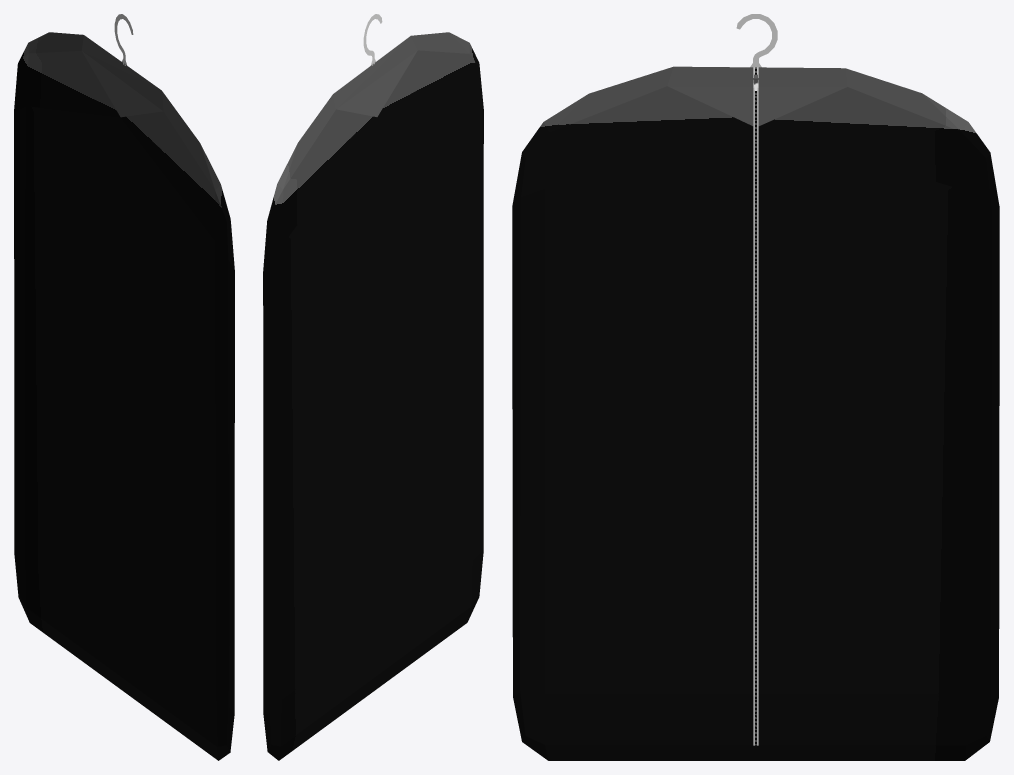
Rendered from Prefab_Array_SuitBag.glb.
3 views of the same model, side by side, from view 1: azimuth 30°, elevation 25°; view 2: azimuth 150°, elevation 25°; view 3: azimuth 270°, elevation 25° (orthographic). The views are drawn at different scales.
Parts seen in each view (by area): view 1: Plane.002; view 2: Plane.002; view 3: Plane.002.
Boxes of the visible parts, x1,y1,x2,y2 form: Plane.002: (14,14,234,760); Plane.002: (263,14,483,760); Plane.002: (512,14,999,760).
Size of the model in its own units: 0.0197 by 1.02 by 0.6025.
1 material, 1 textured.
